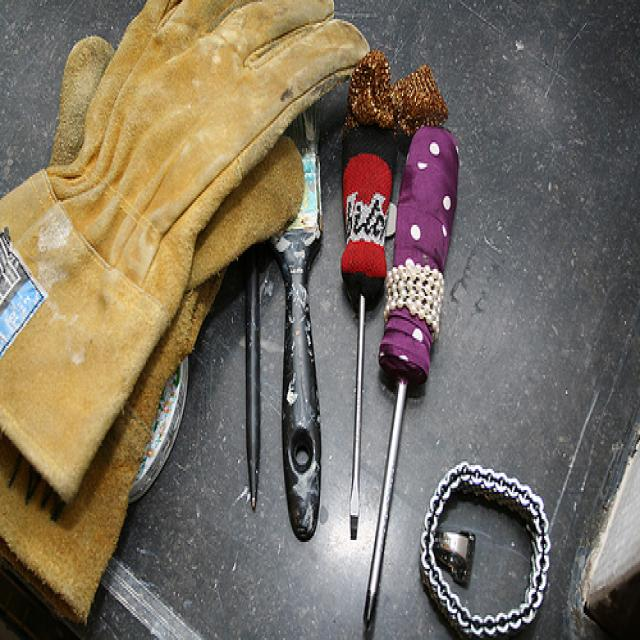screw driver: (329, 122, 384, 568)
